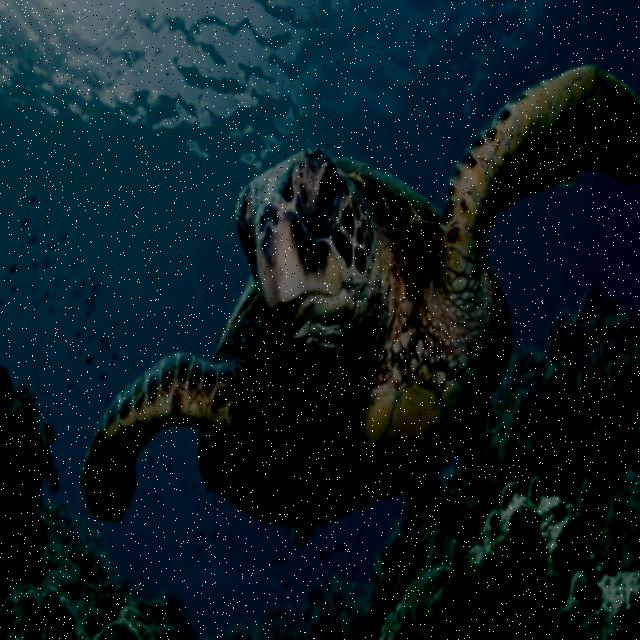tortoise: (80, 52, 636, 568)
